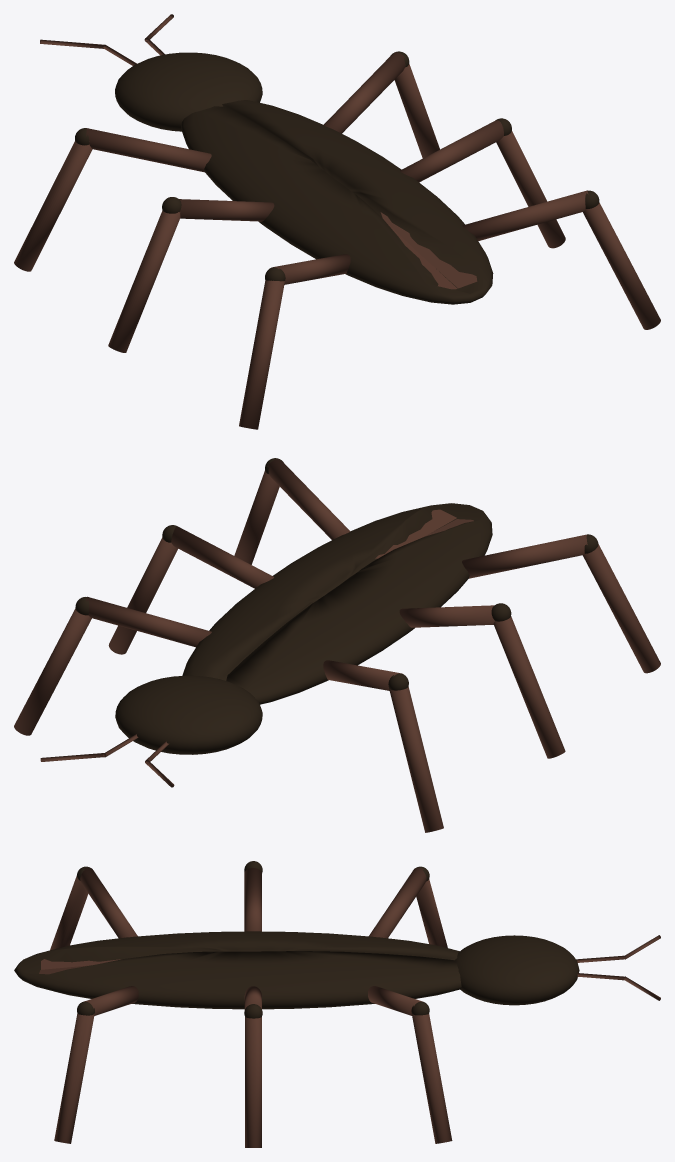
The model's file is roach.fbx.
3 views of the same model, one above another, from view 1: azimuth 30°, elevation 25°; view 2: azimuth 150°, elevation 25°; view 3: azimuth 270°, elevation 25° (orthographic). The views are drawn at different scales.
Visible parts, largest first — view 1: Plane; view 2: Plane; view 3: Plane.
Boxes of the visible parts, bbox=[...] form: Plane: bbox=[14, 14, 660, 429]; Plane: bbox=[14, 458, 660, 832]; Plane: bbox=[14, 861, 660, 1147].
Size of the model in its own units: 709 by 210 by 992.
